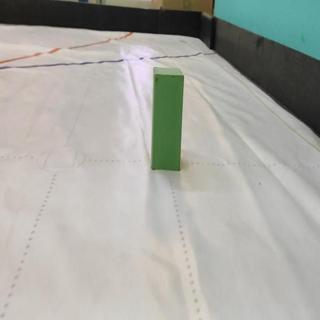greenbox: (151, 65, 185, 172)
